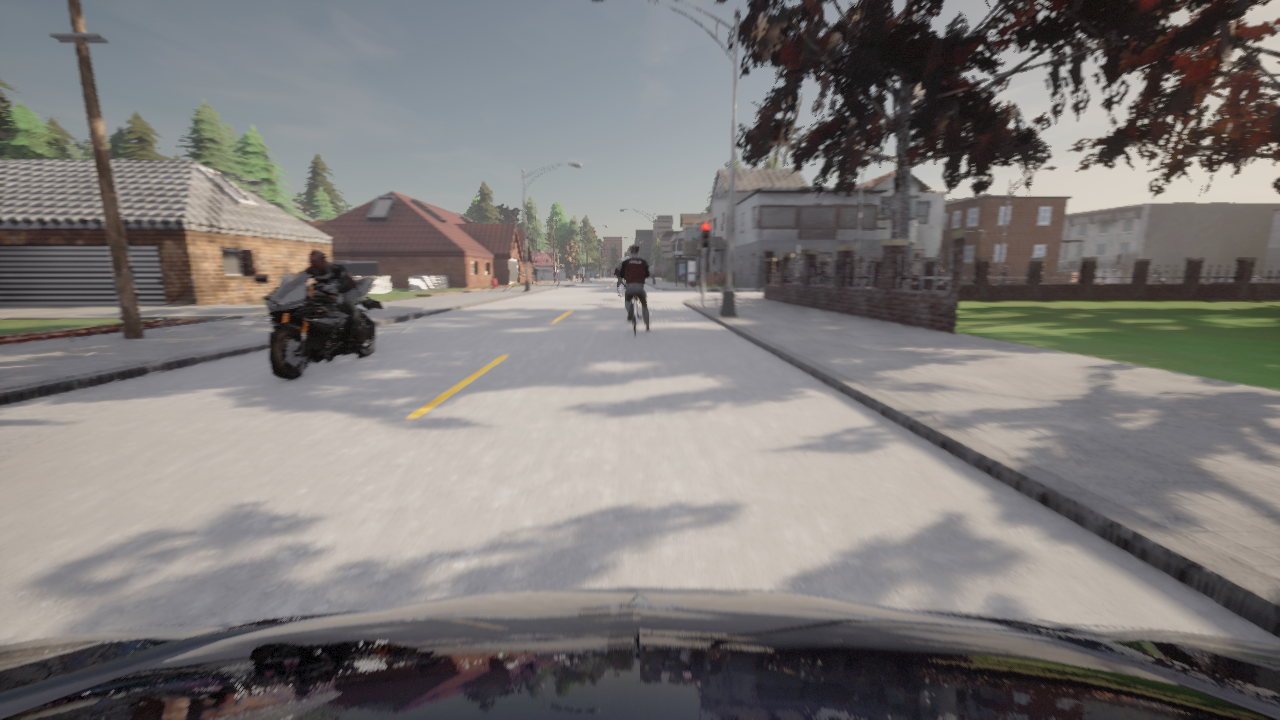cyclist: (0, 588, 1279, 719), (255, 272, 384, 380), (627, 295, 641, 336), (991, 278, 1013, 283), (1148, 275, 1163, 282), (620, 284, 622, 302), (938, 280, 944, 283)
pedestrian: (531, 264, 541, 289)
